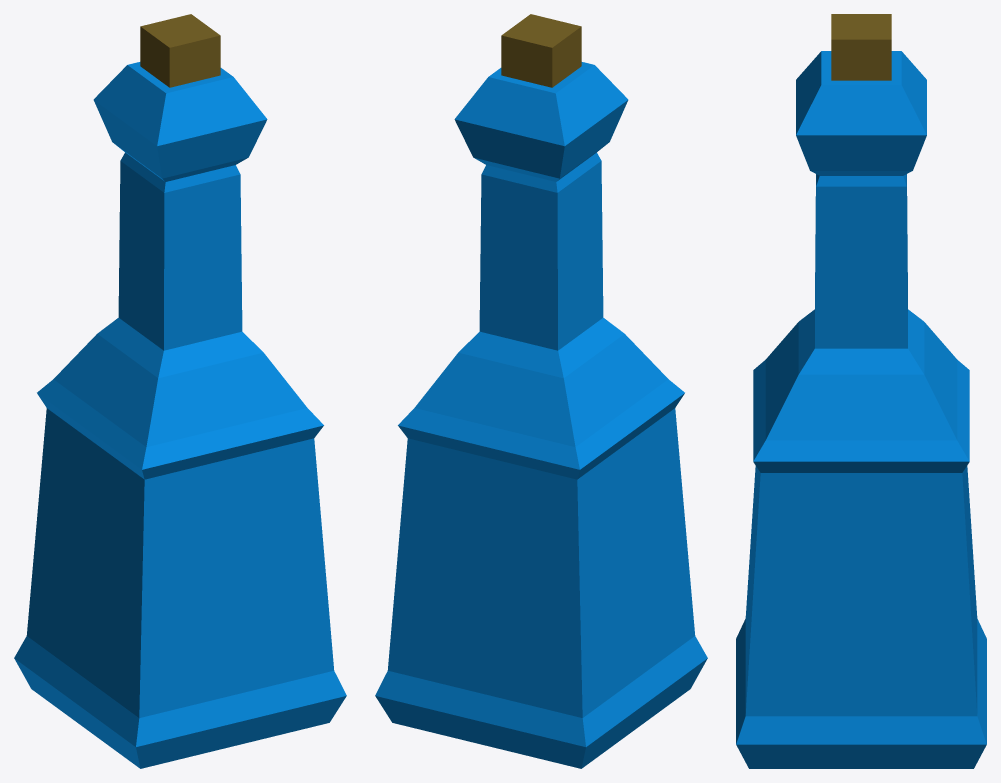
File: potion_a_blue_opaque.fbx
The picture shows the model from 3 angles, left to right: view 1: azimuth 30°, elevation 25°; view 2: azimuth 150°, elevation 25°; view 3: azimuth 270°, elevation 25°; orthographic projection. The views are drawn at different scales.
Visible parts, largest first — view 1: Bottle, Cork; view 2: Bottle, Cork; view 3: Bottle, Cork.
Boxes of the visible parts, x1,y1,x2,y2 form: Bottle: (14,62,346,768); Cork: (140,14,220,87); Bottle: (375,62,707,768); Cork: (501,14,581,87); Bottle: (736,51,986,768); Cork: (831,14,891,80).
Bounding box in the file's own units: 4.52 × 13.82 × 4.52.
